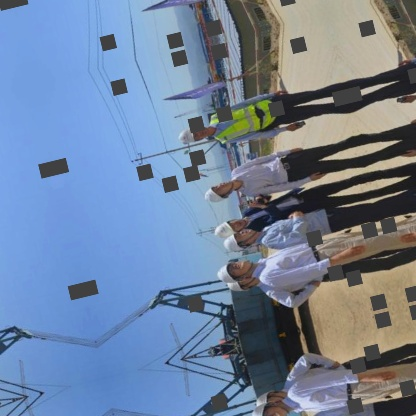vest: (204, 94, 283, 149)
white: (211, 259, 244, 293), (210, 218, 242, 245), (220, 231, 250, 259), (200, 184, 229, 209), (172, 125, 201, 150), (223, 277, 253, 301)
